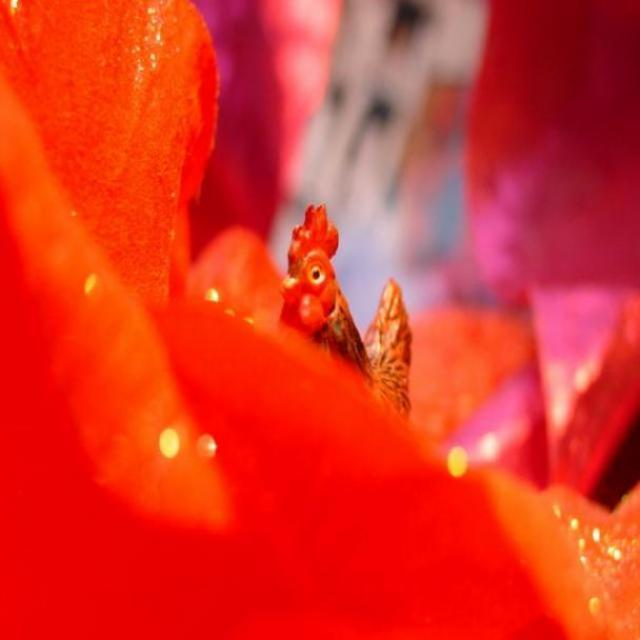Chicken: (270, 199, 417, 429)
